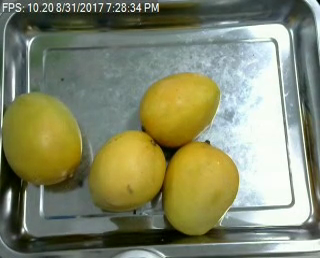Mango: (0, 92, 84, 186), (87, 130, 168, 214), (166, 142, 238, 232), (140, 70, 221, 145)
